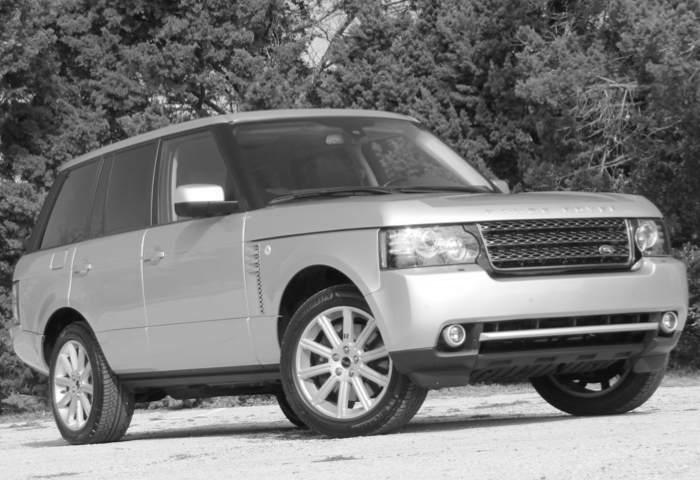car: (11, 108, 689, 444)
